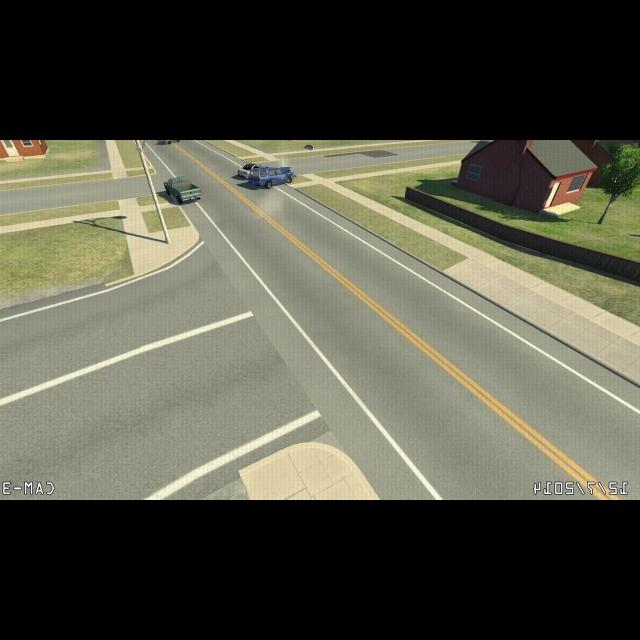accident: (234, 162, 297, 189)
